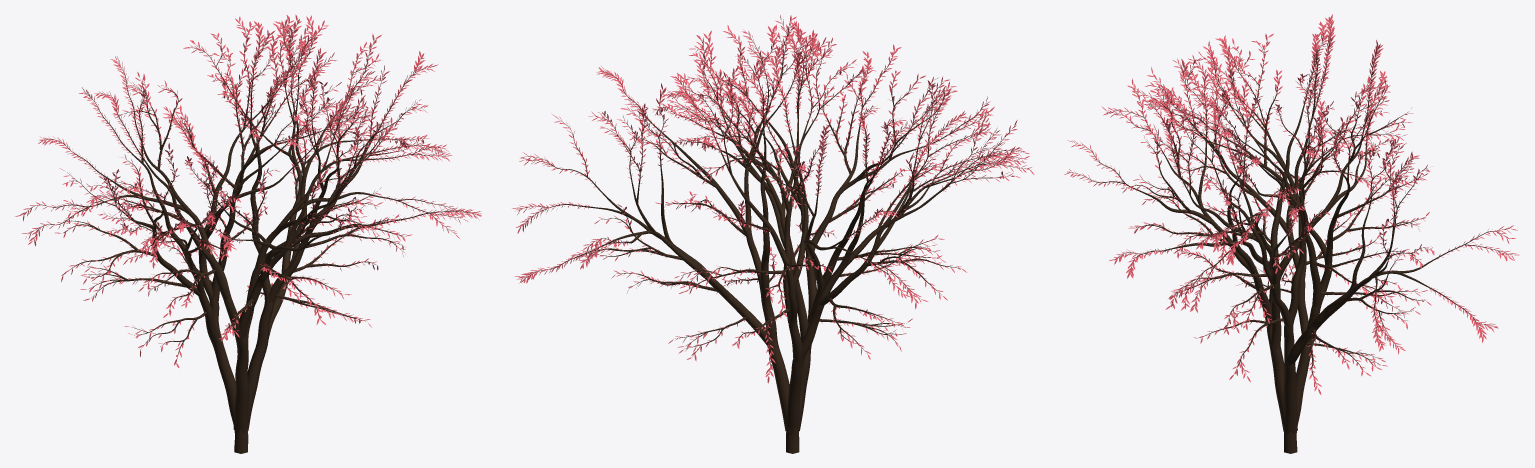
The model's file is tree1.glb.
3 renders of one model, left to right at view 1: azimuth 30°, elevation 25°; view 2: azimuth 150°, elevation 25°; view 3: azimuth 270°, elevation 25°, orthographic. The views are drawn at different scales.
Parts seen in each view (by area): view 1: tree1, leaves; view 2: tree1, leaves; view 3: tree1, leaves.
Boxes of the visible parts, x1=… form: tree1: x1=23, y1=24, x2=475, y2=453; leaves: x1=15, y1=14, x2=481, y2=367; tree1: x1=521, y1=23, x2=1028, y2=453; leaves: x1=512, y1=15, x2=1034, y2=383; tree1: x1=1072, y1=26, x2=1512, y2=453; leaves: x1=1064, y1=14, x2=1519, y2=394.
Size of the model in its own units: 59.95 by 53.29 by 55.73.
